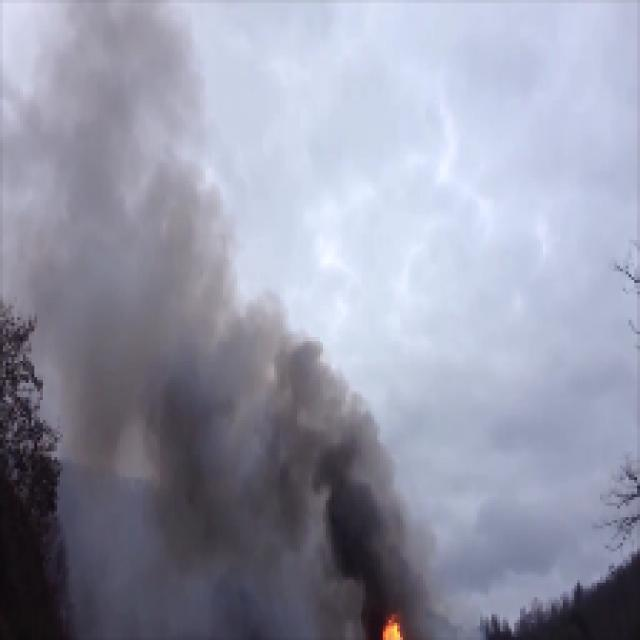Fire: (380, 613, 406, 639)
Smoke: (60, 21, 186, 359), (194, 322, 297, 537), (320, 417, 392, 602)
